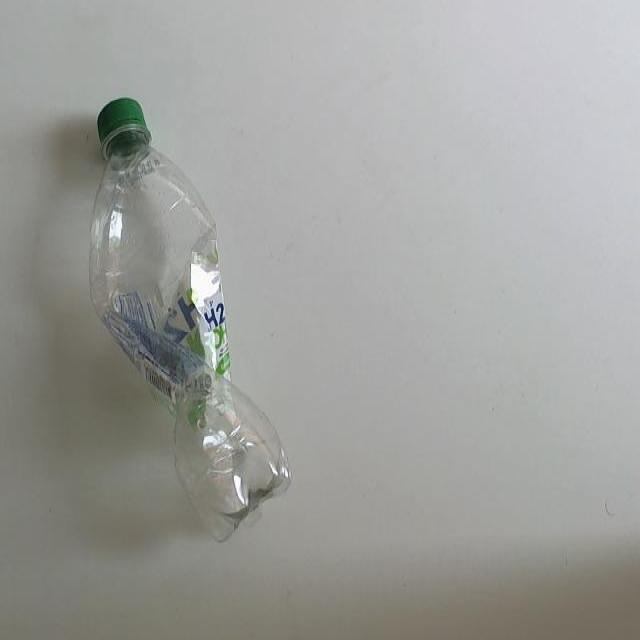defect: (85, 92, 294, 549)
